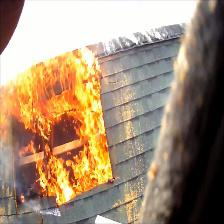fire: (8, 51, 110, 197)
